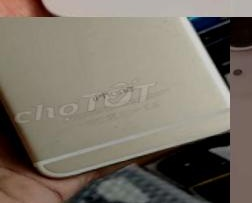scratch: (154, 17, 174, 27)
